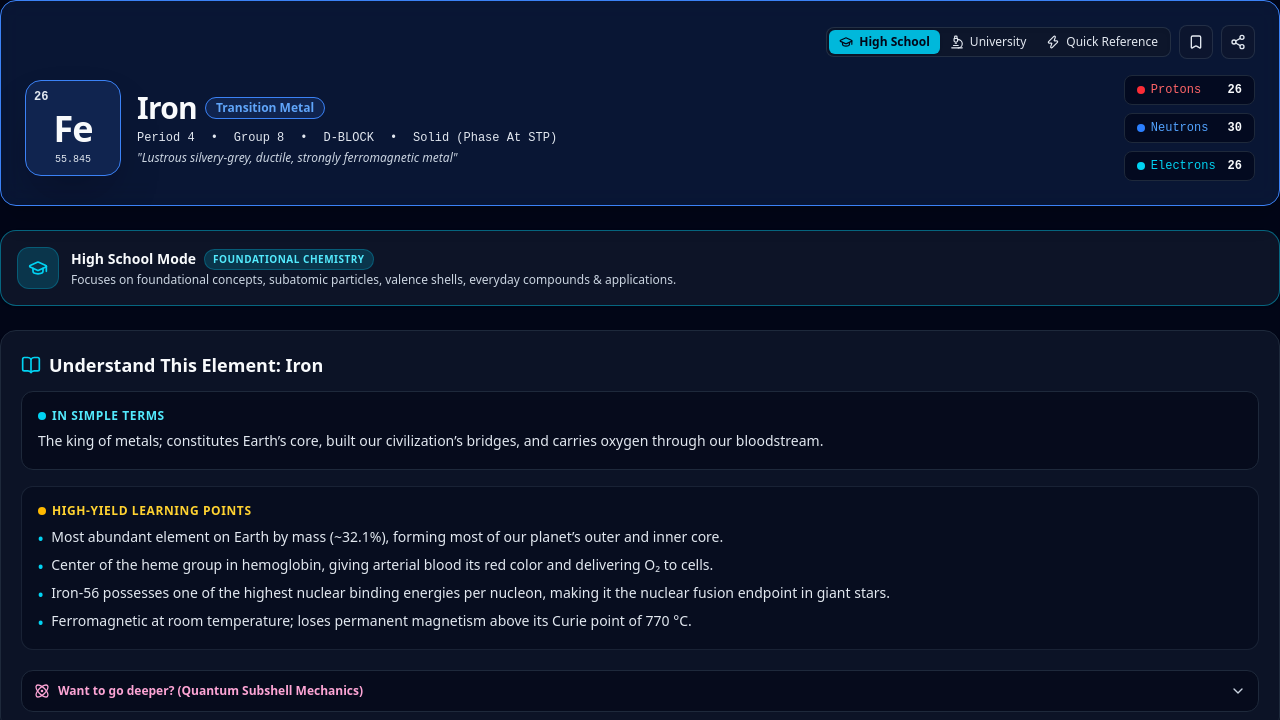
Test: ElementDetails Educational Modes › renders High School mode with foundational concepts and toggles
expect the text "High School Mode" is shown: met, box [71,249,196,269]
expect the text "Foundational Chemistry" is shown: met, box [204,248,374,270]
// Clicking deep dive toggle reveals "Why It Behaves This Way"
Click the button "Want to go deeper? (Quantum Subshell Mechanics)": {"x": 211, "y": 690} [21,670,1259,712]
(page scrolled)
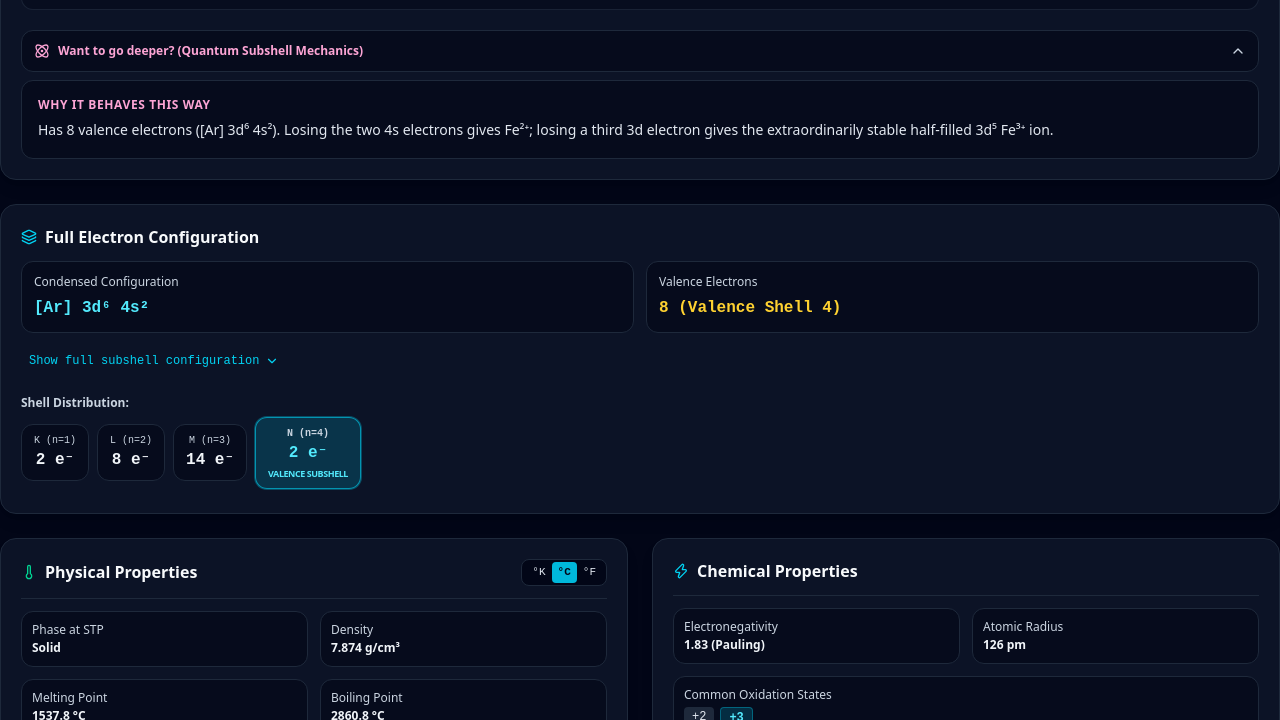
expect the heading "Why It Behaves This Way" is shown: met, box [38,96,211,113]
// Clicking full config toggle reveals full subshell configuration
Click the button "Show full subshell configuration": {"x": 154, "y": 360} [21,348,287,372]
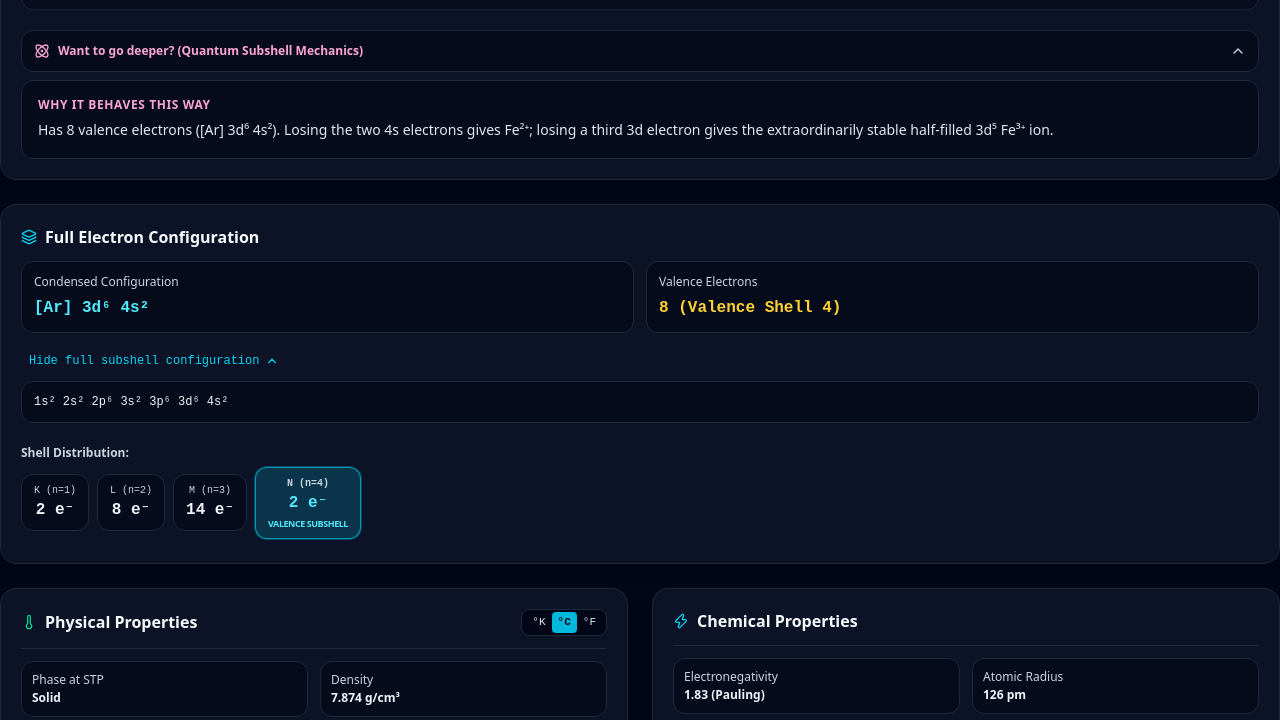
expect the text "1s² 2s² 2p⁶ 3s² 3p⁶ 3d⁶ 4s²" is shown: met, box [21,380,1259,422]
